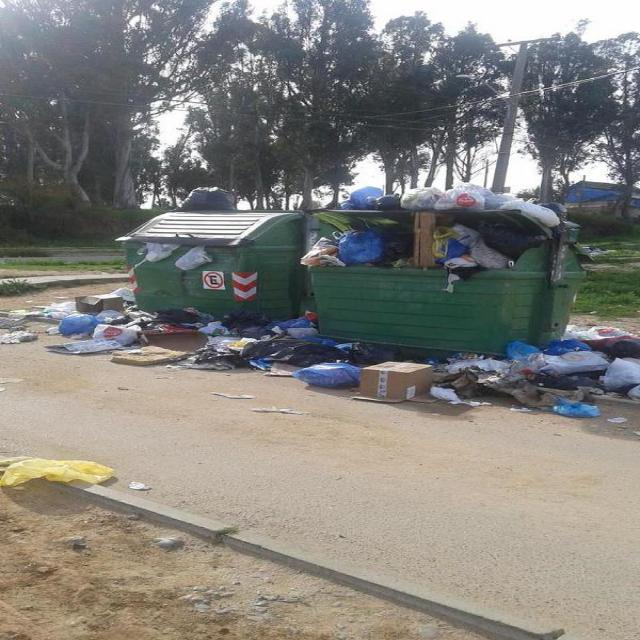garbage: (86, 335, 639, 411), (302, 214, 556, 282), (9, 284, 150, 366), (0, 450, 172, 516), (308, 178, 563, 212), (163, 170, 251, 222), (144, 235, 214, 272)
